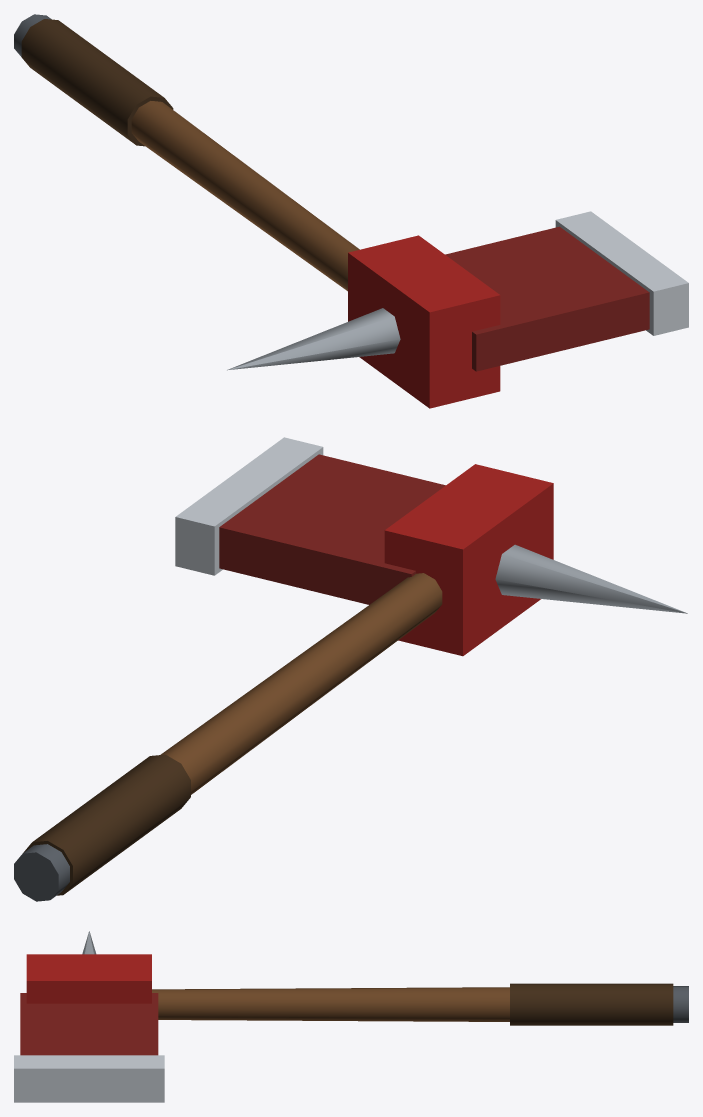
The model's file is FireAxe.gltf.
3 views of the same model, one above another, from view 1: azimuth 30°, elevation 25°; view 2: azimuth 150°, elevation 25°; view 3: azimuth 270°, elevation 25° (orthographic). The views are drawn at different scales.
Visible parts, largest first — view 1: WeaponFireAxe; view 2: WeaponFireAxe; view 3: WeaponFireAxe.
Part boxes in pixels (<box>): WeaponFireAxe: <box>14,14,688,408</box>; WeaponFireAxe: <box>14,437,687,901</box>; WeaponFireAxe: <box>14,931,688,1102</box>.
Size of the model in its own units: 0.585 by 0.13 by 1.07.
